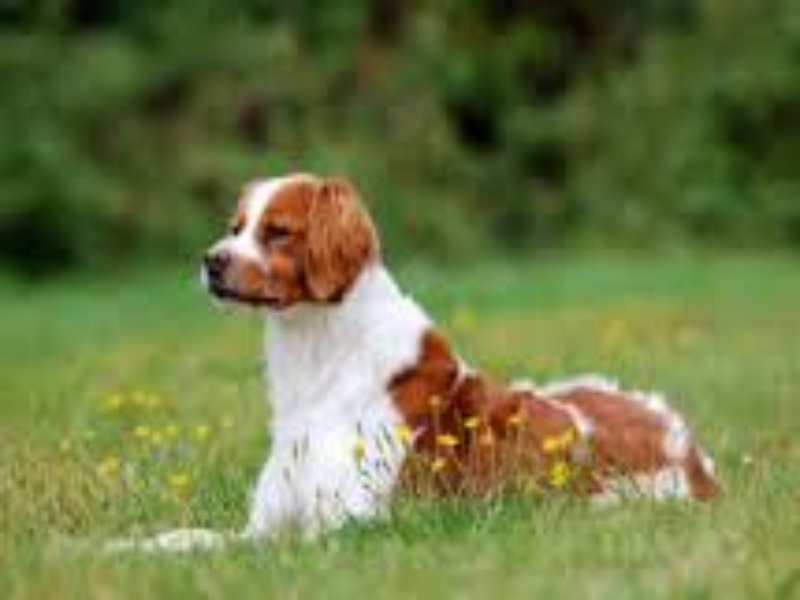dog: (195, 170, 731, 530)
